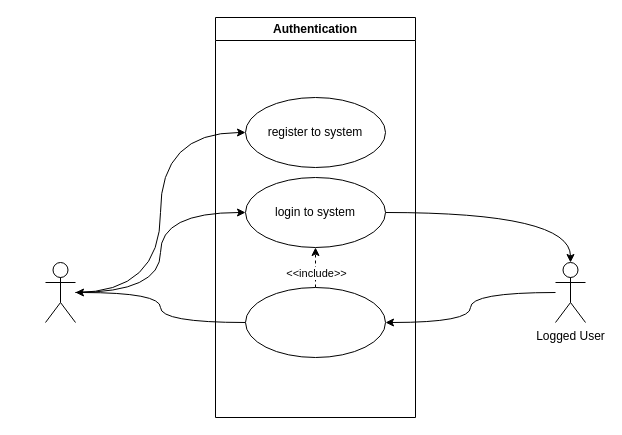
Image size: 622x435. Some labels were removed from this diagram. The centre of each missing label's shape, as x and y in pixels:
logout to system: the point at 315,322
NotLogged User: the point at 60,292
